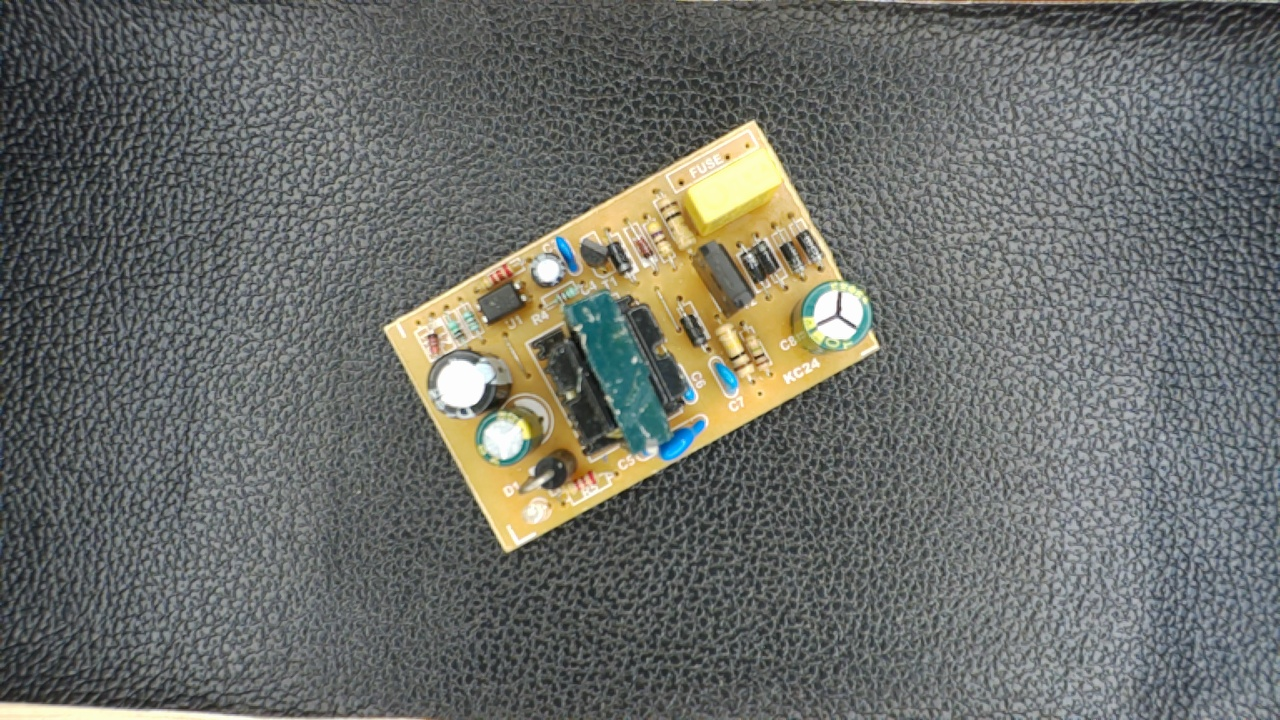hv_capacitor: (786, 278, 872, 353)
mov: (645, 417, 714, 462)
optocoupler: (467, 278, 539, 323)
